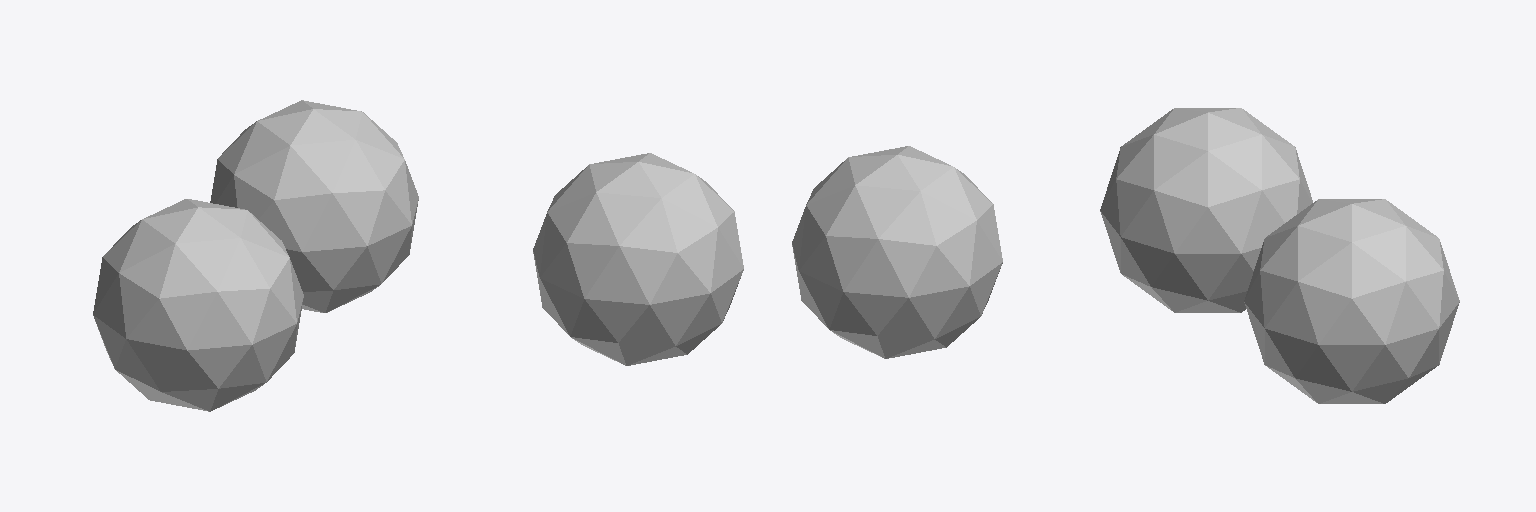
Rendered from eyalSpheres2.obj.
The picture shows the model from 3 angles: view 1: azimuth 30°, elevation 25°; view 2: azimuth 150°, elevation 25°; view 3: azimuth 270°, elevation 25°; orthographic projection.
Visible parts, largest first — view 1: icosphere22_Icosphere.005, icosphere21_Icosphere.004; view 2: icosphere21_Icosphere.004, icosphere22_Icosphere.005; view 3: icosphere21_Icosphere.004, icosphere22_Icosphere.005.
Boxes of the visible parts, box(x1,y1,x2,y2) form: icosphere22_Icosphere.005: box(93, 199, 303, 411); icosphere21_Icosphere.004: box(210, 100, 418, 312); icosphere21_Icosphere.004: box(533, 153, 743, 365); icosphere22_Icosphere.005: box(792, 146, 1002, 358); icosphere21_Icosphere.004: box(1244, 199, 1459, 403); icosphere22_Icosphere.005: box(1100, 108, 1312, 312).
Size of the model in its own units: 1.17 by 0.6 by 1.